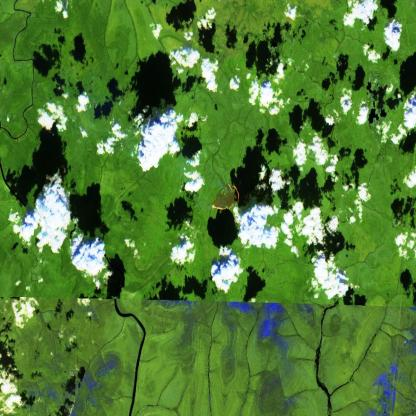fire: (209, 180, 243, 216)
